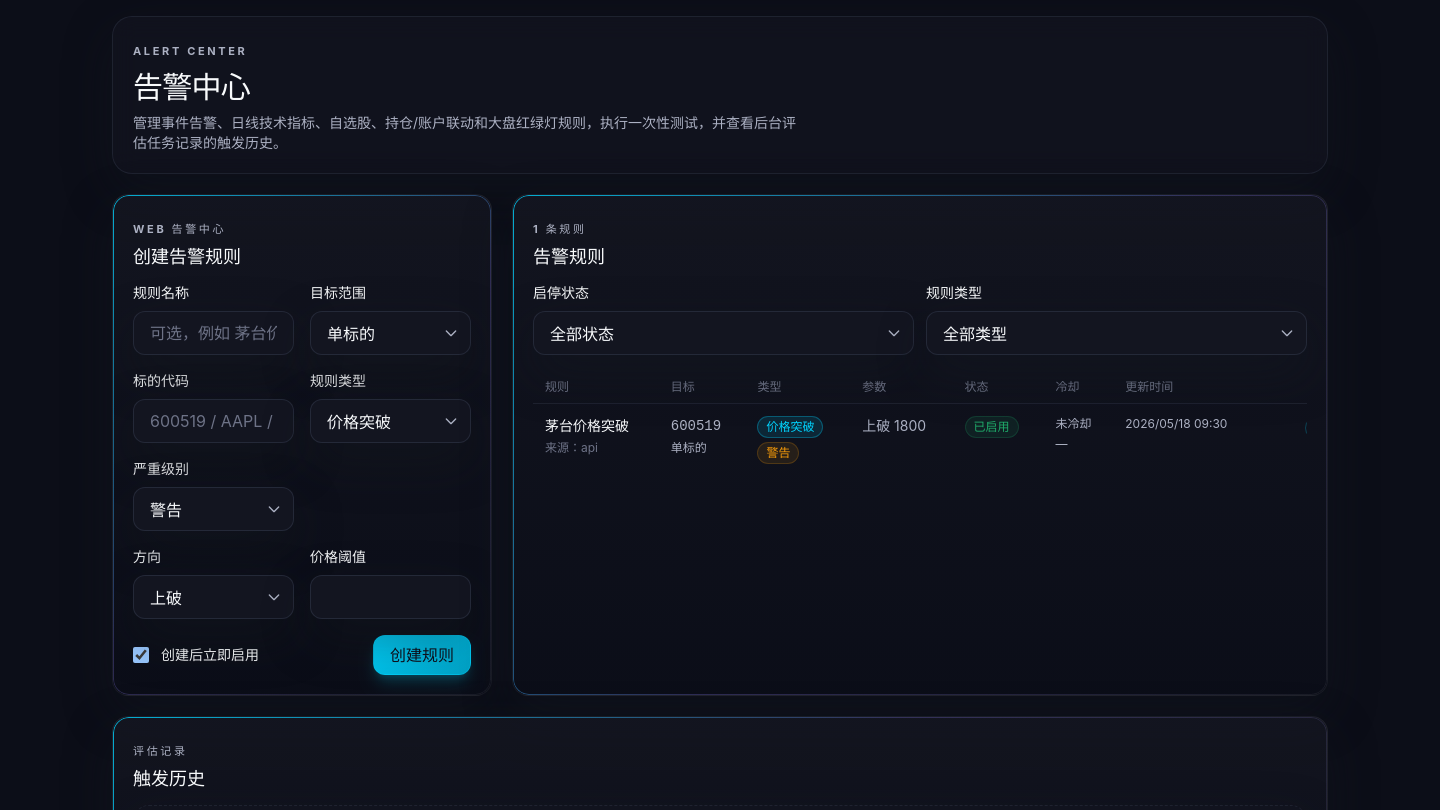
Test: AlertsPage › creates a rule through the page form and reloads rules
Expected: the text "茅台价格突破" is shown, [545,417,629,434]
Type "aapl" into the field labelled "标的代码" at x=214, y=421, box [133,399,294,443]
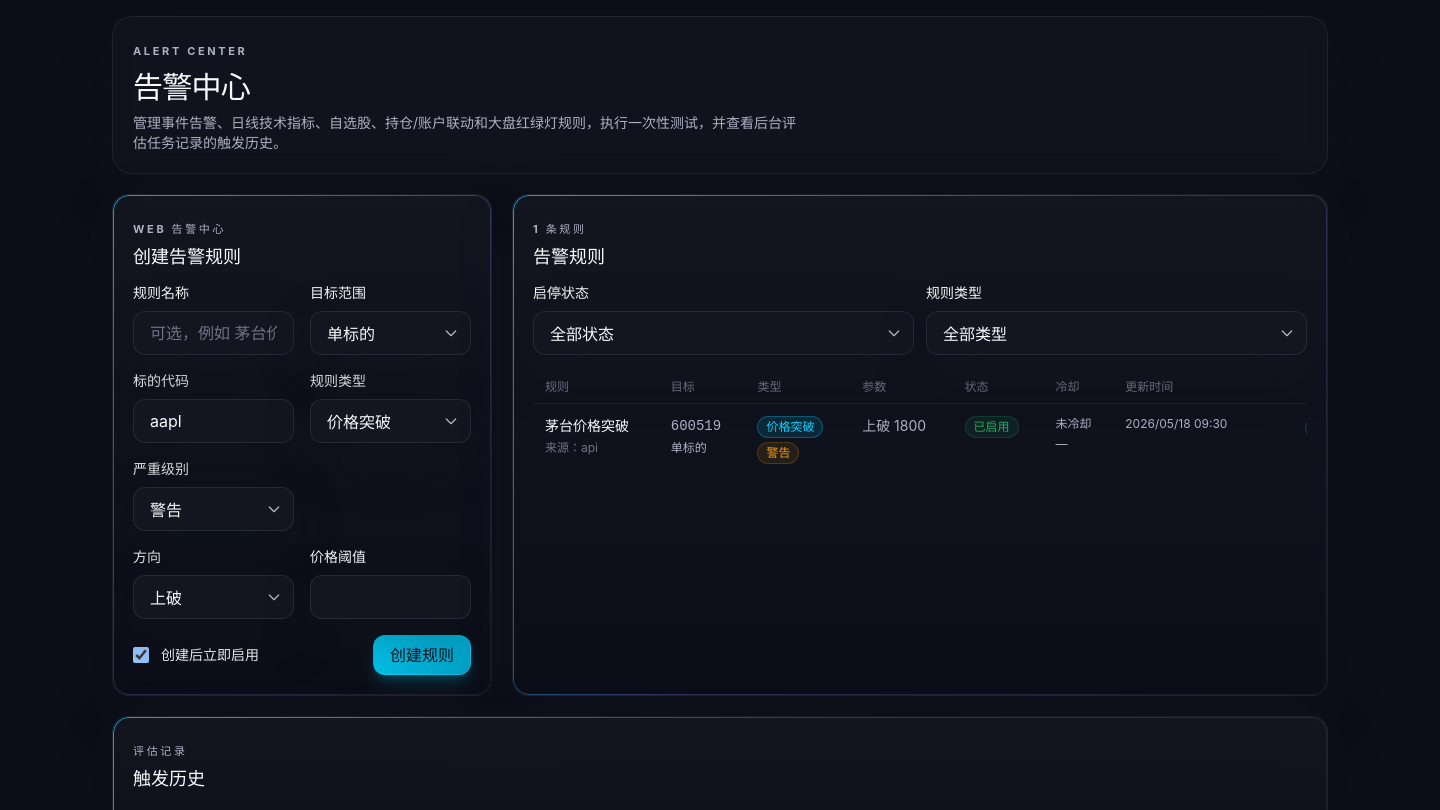
Type "200" into the number field labelled "价格阈值" at x=390, y=597, box [310,575,471,619]
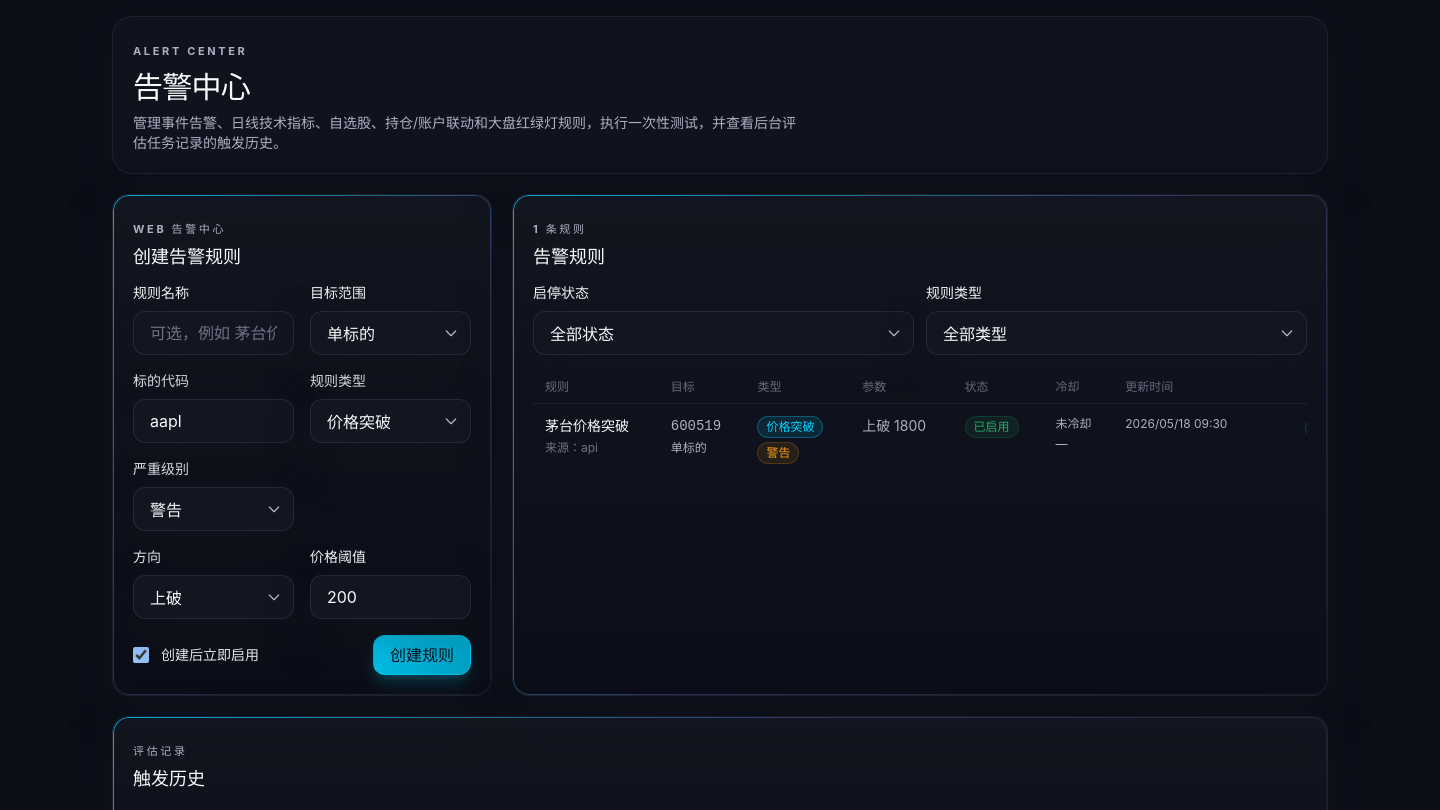
Click the button "创建规则" at x=422, y=655, box [373,635,471,675]
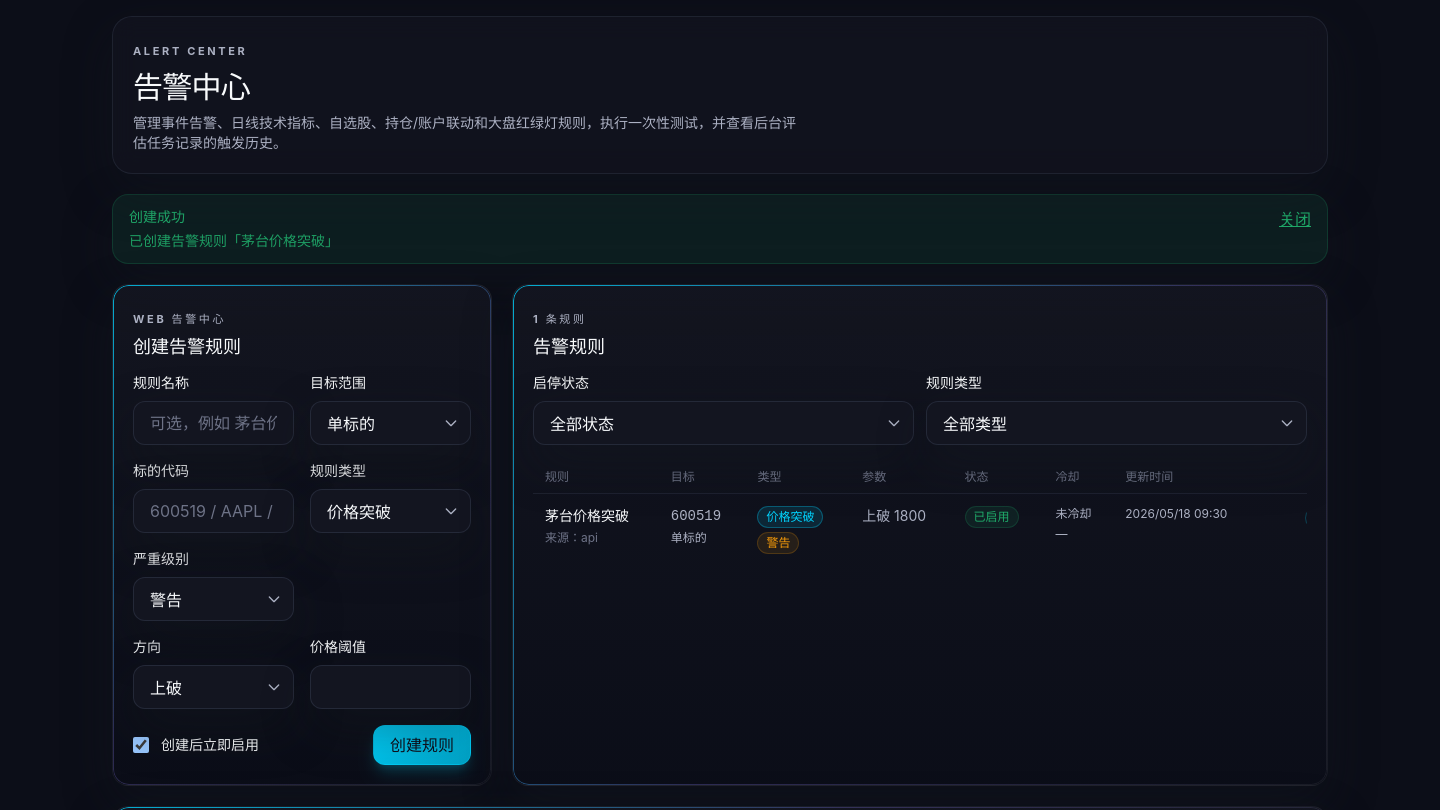
Expected: the text "已创建告警规则「茅台价格突破」" is shown, [129,231,339,251]
